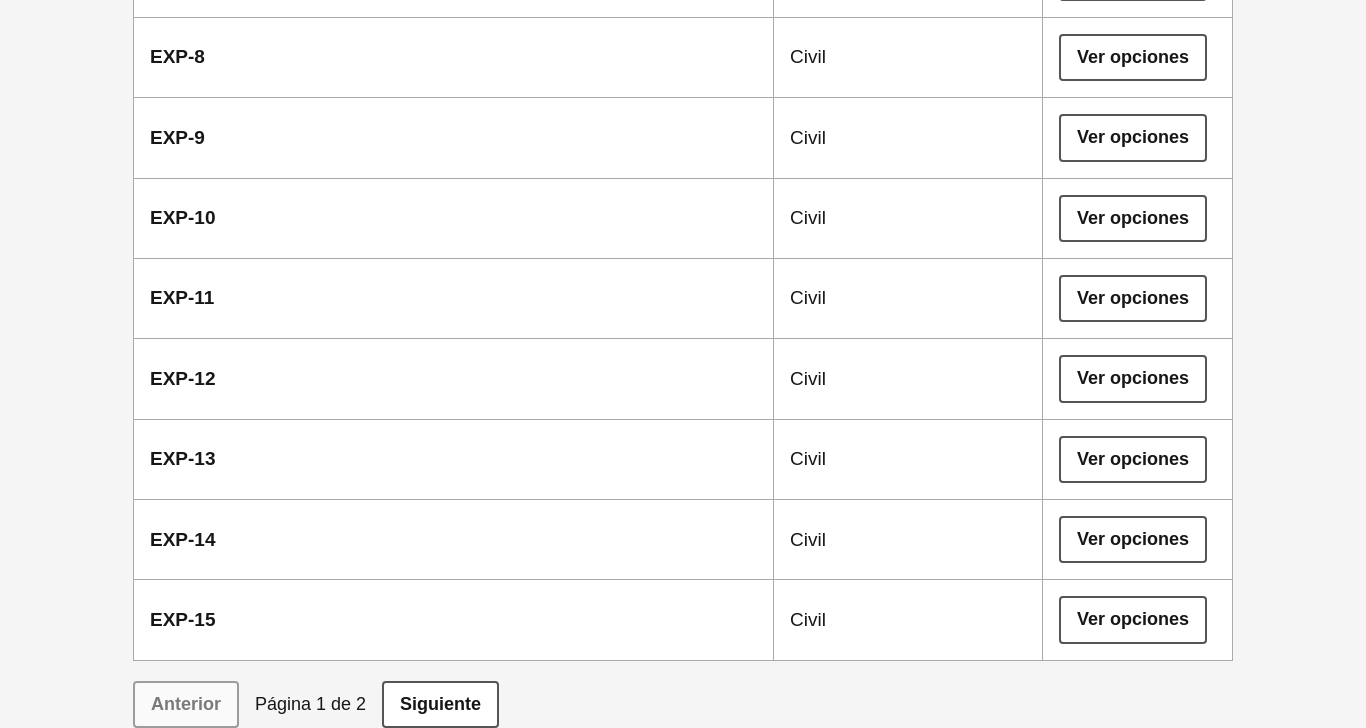
Scenario: Flujo sencillo de expedientes › pagina la lista sin omitir expedientes
The image size is (1366, 728).
(page scrolled)
Click the button "Siguiente". click: (441, 705)
box: [382, 681, 499, 727]
(page scrolled)
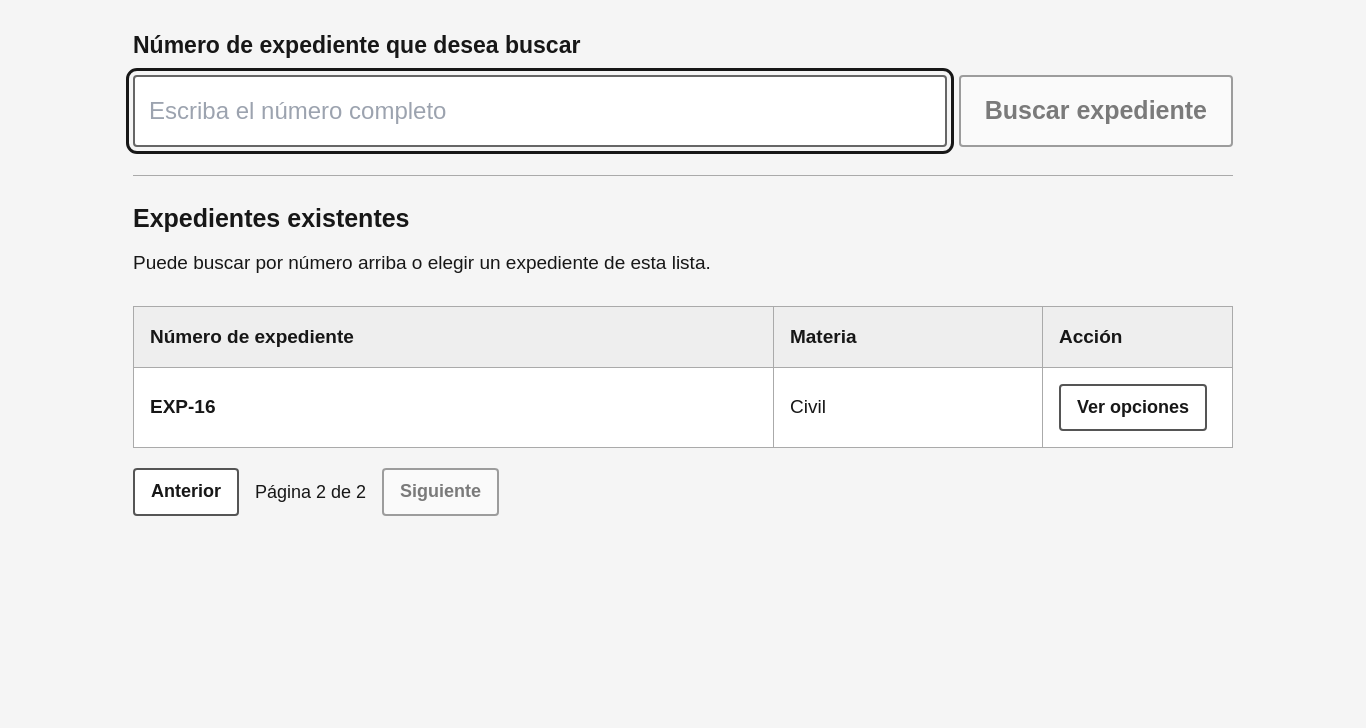
Now the table shows "EXP-16", box [150, 396, 216, 417]
